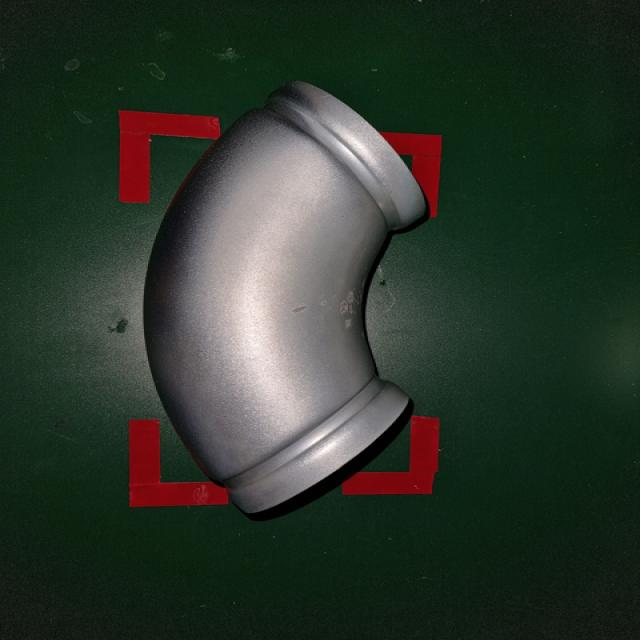Defect: (135, 70, 440, 522)
Hole: (288, 280, 368, 335)
